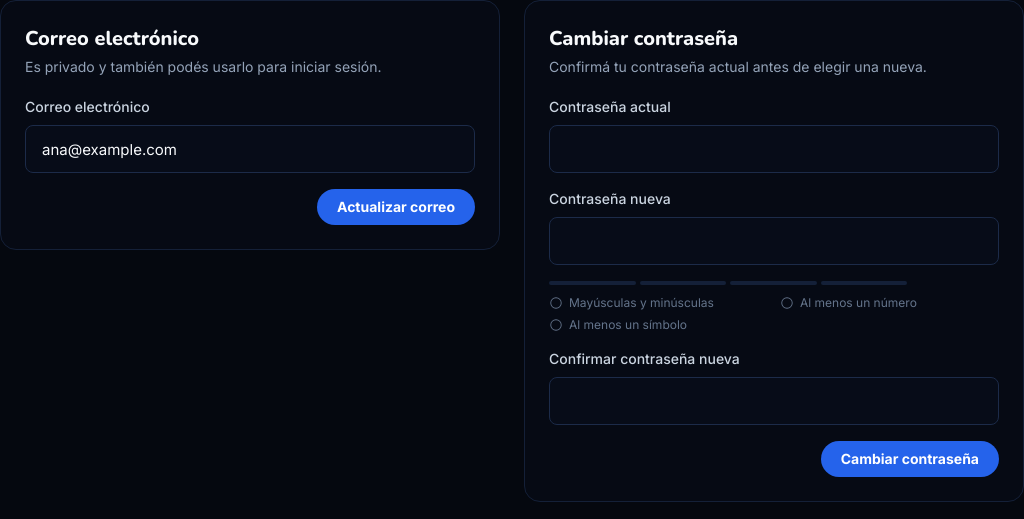
Test case: AccountSettings › actualiza el correo con protección CSRF
Step 1. Replace the text in the field labelled "Correo electrónico" with "nuevo@example.com" → {"x": 250, "y": 149}, box [25,125,475,173]
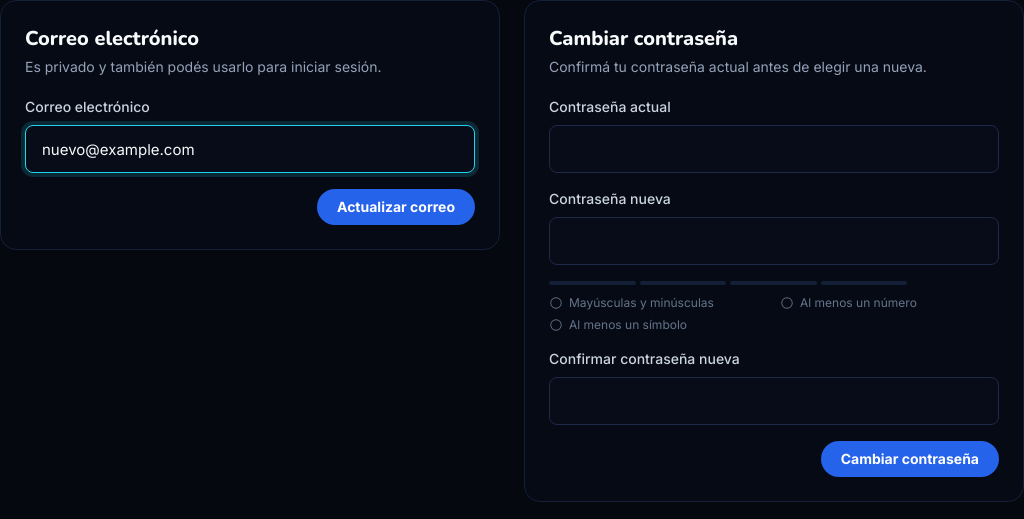
Step 2. Click the button "Actualizar correo" → {"x": 396, "y": 207}, box [317,189,475,225]
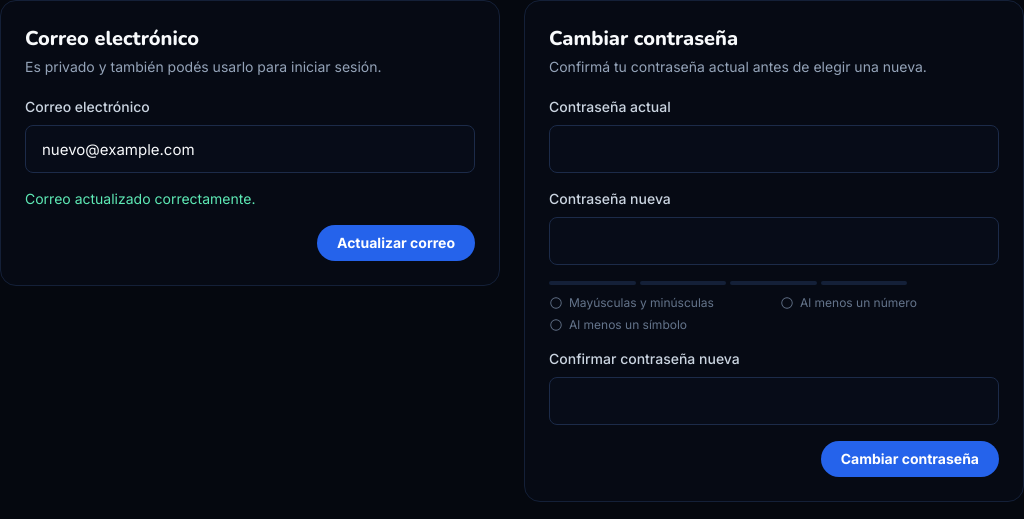
Check: the message reads "Correo actualizado correctamente.", box [25,190,255,207]
